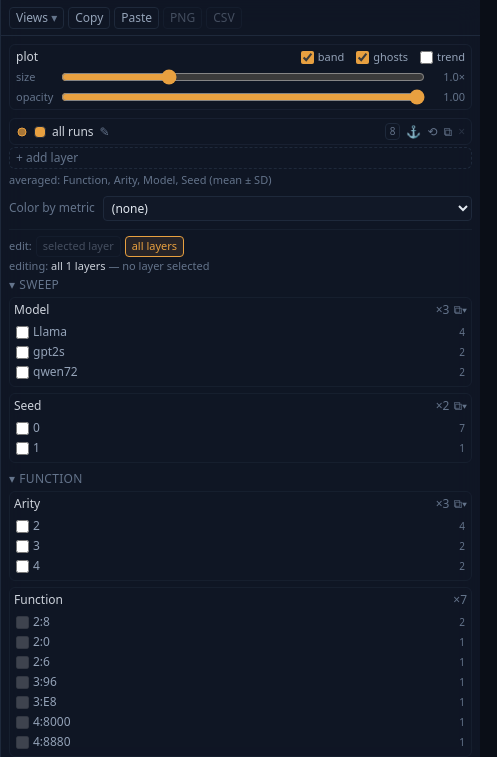
layers strip › the pencil opens the rename editor even on an unselected row; Enter commits
Click the button "+ add layer" at (47, 158), box [9,147,472,169]
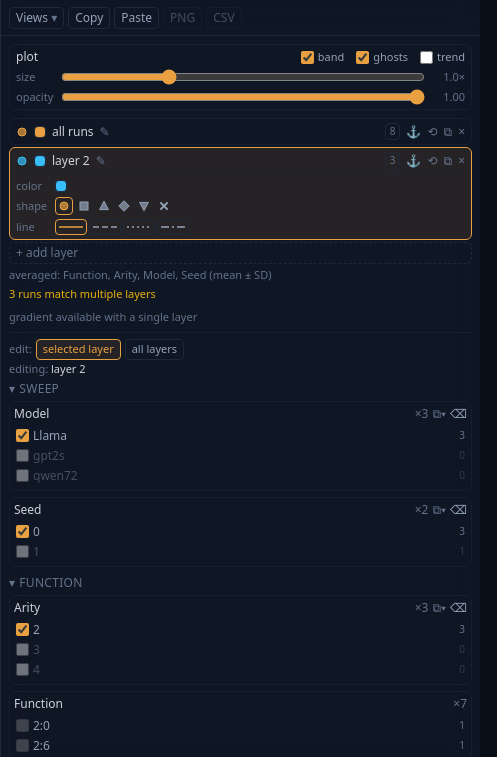
Click the button named "rename layer all runs" at (105, 132), box [100,124,110,140]
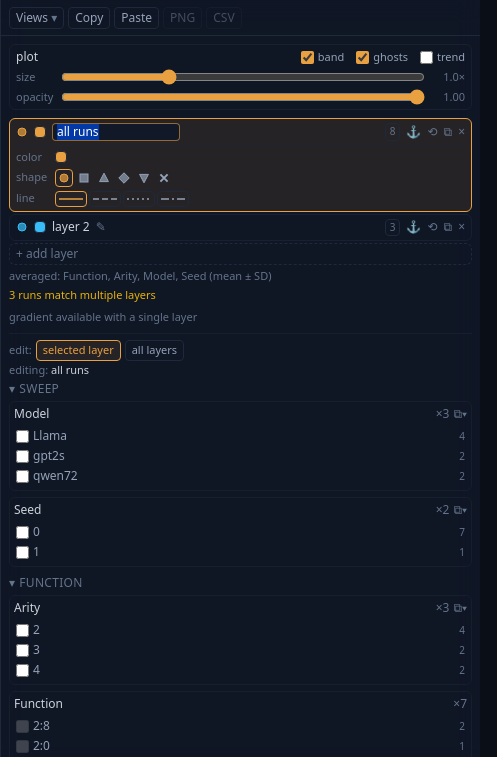
Check: the field named "layer name" holds "all runs"
Replace the text in the field named "layer name" with "renamed" at (116, 132), box [52,123,180,141]
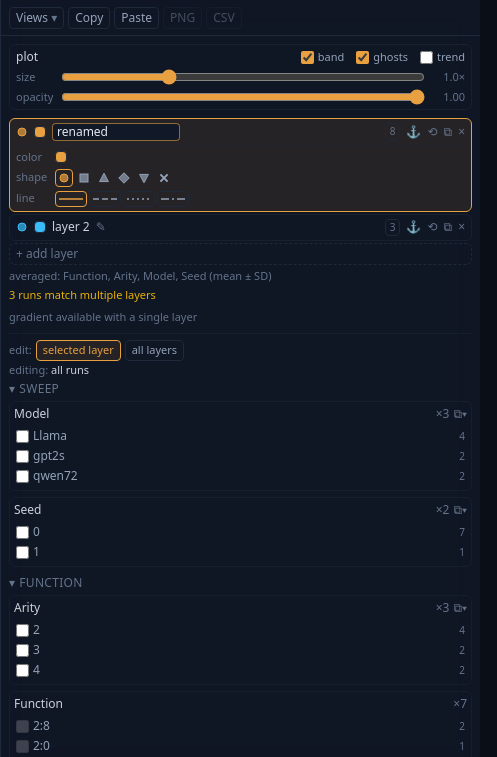
Press Enter in the field named "layer name", box [52,123,180,141]
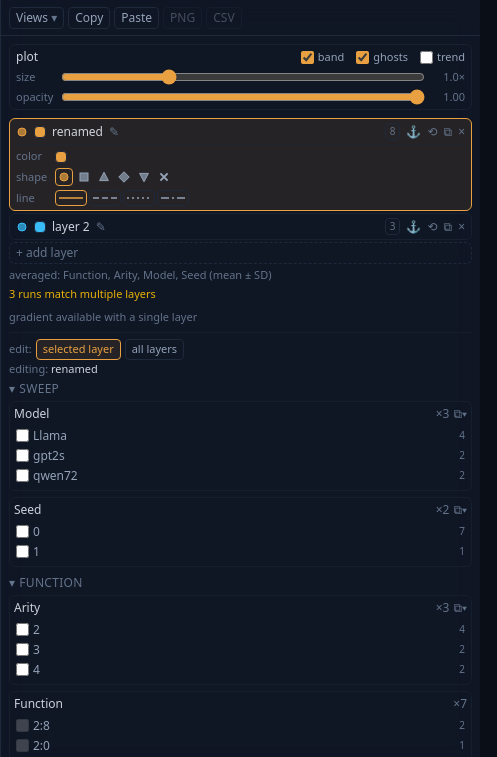
Check: the button "renamed" is shown, box [52,124,103,140]
